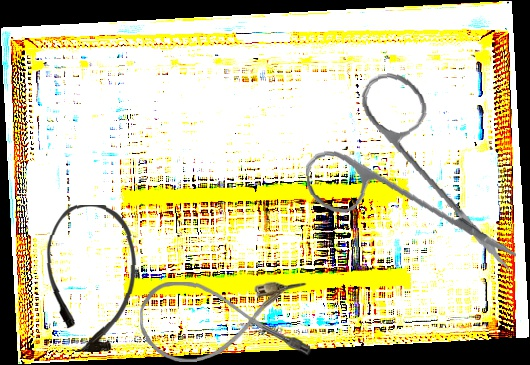Cannula: (42, 203, 139, 354), (139, 279, 311, 363)
Iris Scissors: (296, 62, 518, 290)
